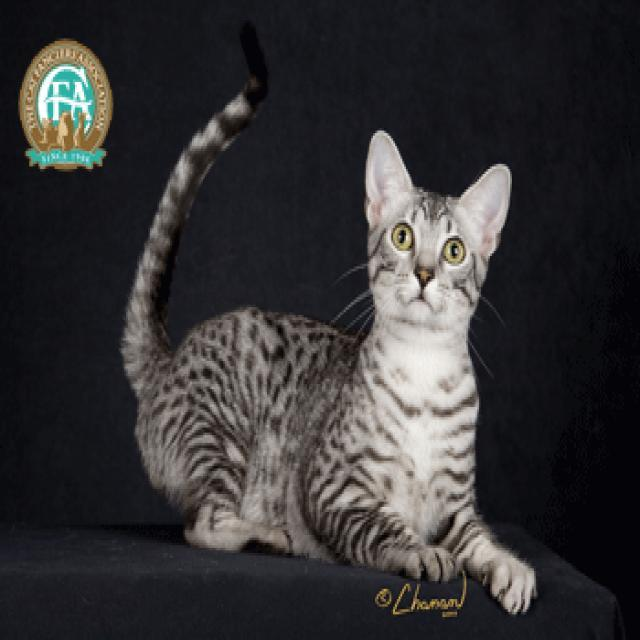Egyptian_Mau: (362, 132, 512, 341)
